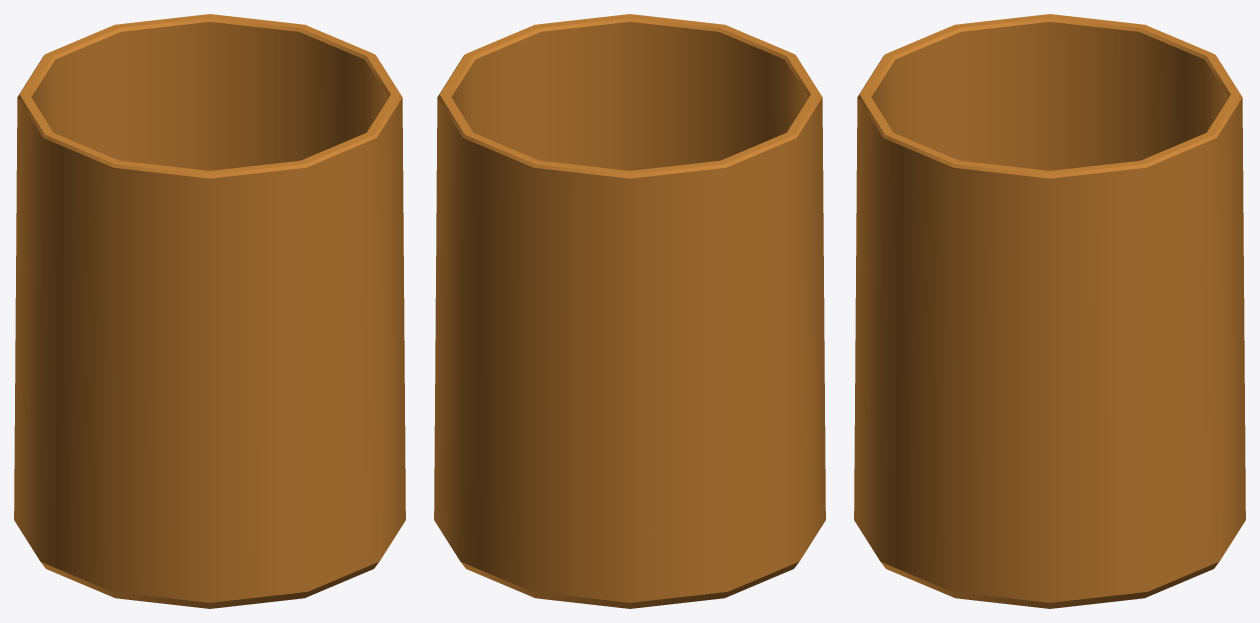
File: utensil cup.fbx
3 views of the same model, side by side, from view 1: azimuth 30°, elevation 25°; view 2: azimuth 150°, elevation 25°; view 3: azimuth 270°, elevation 25° (orthographic).
Visible parts, largest first — view 1: tool mug; view 2: tool mug; view 3: tool mug.
Part boxes in pixels (x1,y1,x2,y2): tool mug: (14,14,405,608); tool mug: (434,14,825,608); tool mug: (854,14,1245,608).
Size of the model in its own units: 10.18 by 12.46 by 10.18.
